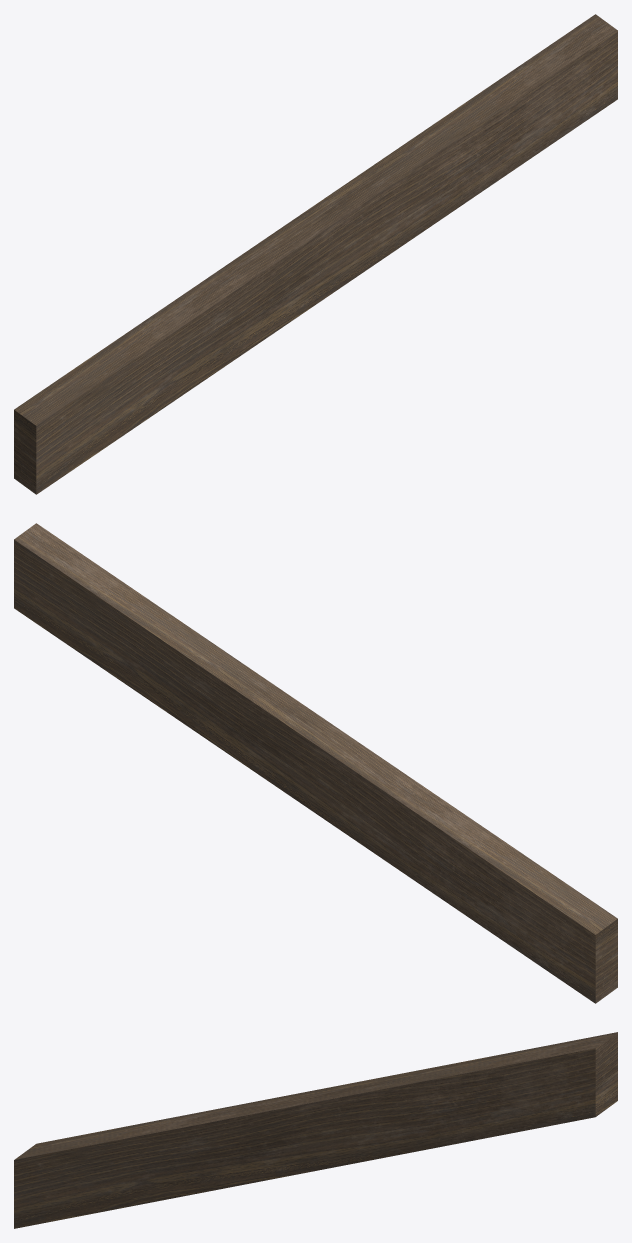
File: SM_Angled_Roof_Beam.FBX
3 views of the same model, one above another, from view 1: azimuth 30°, elevation 25°; view 2: azimuth 150°, elevation 25°; view 3: azimuth 330°, elevation 25° (orthographic).
Parts seen in each view (by area): view 1: SM_Angled_Roof_Beam; view 2: SM_Angled_Roof_Beam; view 3: SM_Angled_Roof_Beam.
Boxes of the visible parts, box(x1,y1,x2,y2) form: SM_Angled_Roof_Beam: box(14, 14, 617, 494); SM_Angled_Roof_Beam: box(14, 523, 617, 1003); SM_Angled_Roof_Beam: box(14, 1032, 617, 1228).
Size of what is drawn, in the model's own units: 300 by 20 by 159.
